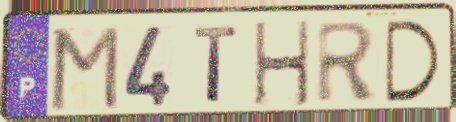4: (122, 23, 179, 111)
D: (382, 18, 445, 105)
H: (252, 18, 312, 109)
M: (47, 23, 122, 113)
R: (315, 19, 381, 106)
T: (191, 24, 241, 107)
